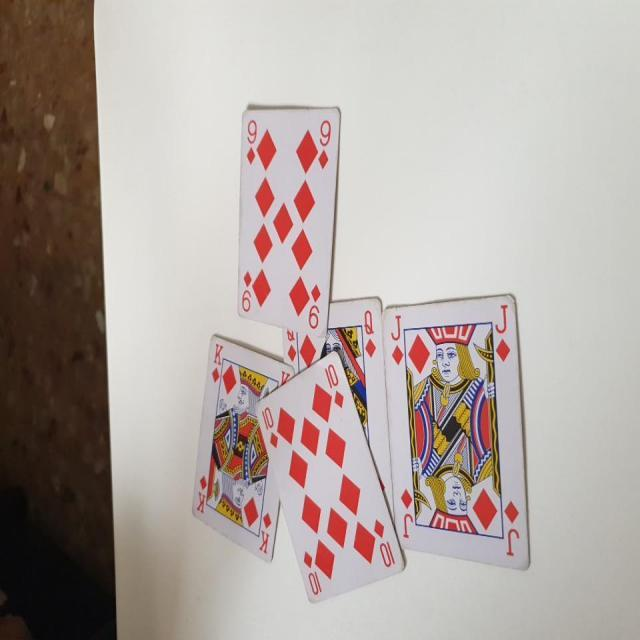10 of diamonds: (250, 349, 410, 605)
9 of diamonds: (235, 102, 342, 337)
jack of diamonds: (381, 294, 533, 574)
king of diamonds: (190, 336, 295, 564)
queen of diamonds: (284, 296, 396, 521)
